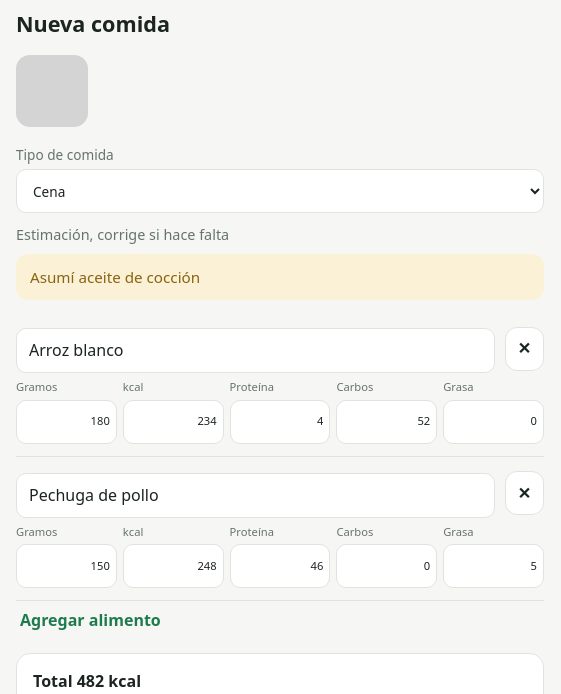
Test: se puede quitar un alimento
Expected: the 1st field showing "Arroz blanco" is shown, [16, 328, 495, 373]
Click the button named "Quitar Arroz blanco". click: (524, 349)
box: [505, 327, 544, 371]
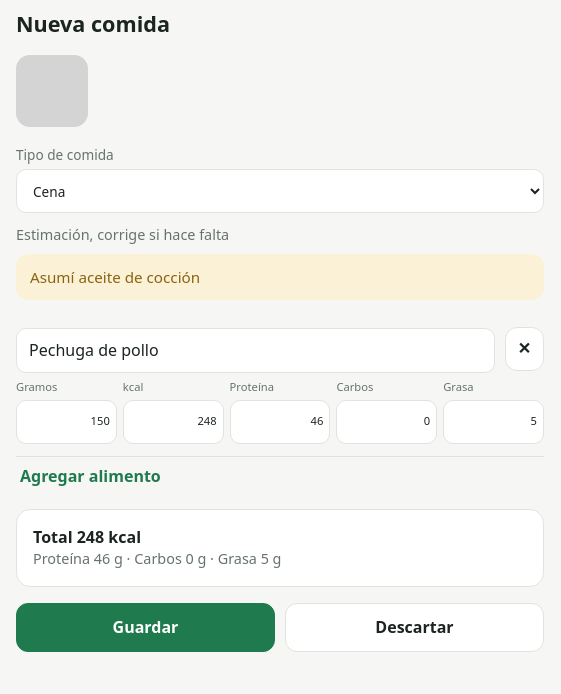
Expected: the field showing "Arroz blanco" is not shown
Now the text "Total 248 kcal" is shown, box [33, 526, 141, 548]
